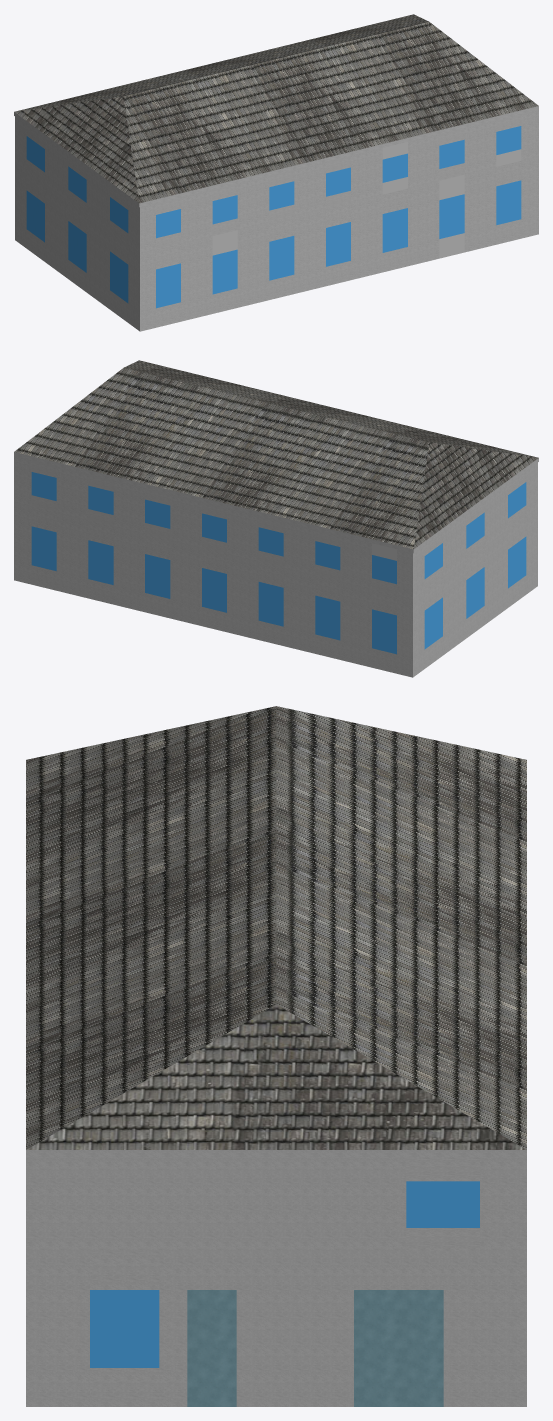
File: Maintenance_Workshop.glb
3 renders of one model, top to bottom at view 1: azimuth 30°, elevation 25°; view 2: azimuth 150°, elevation 25°; view 3: azimuth 270°, elevation 25°, orthographic. The views are drawn at different scales.
Visible parts, largest first — view 1: Floor1, Roof; view 2: Floor1, Roof; view 3: Roof, Floor1.
Boxes of the visible parts, bbox=[...] form: Floor1: bbox=[15, 110, 538, 331]; Roof: bbox=[14, 14, 538, 207]; Floor1: bbox=[14, 456, 537, 677]; Roof: bbox=[14, 360, 538, 553]; Roof: bbox=[26, 706, 526, 1157]; Floor1: bbox=[26, 1157, 526, 1406].
Bounding box in the file's own units: 21.5 × 9.16 × 11.67.
5 materials, 5 textured.
